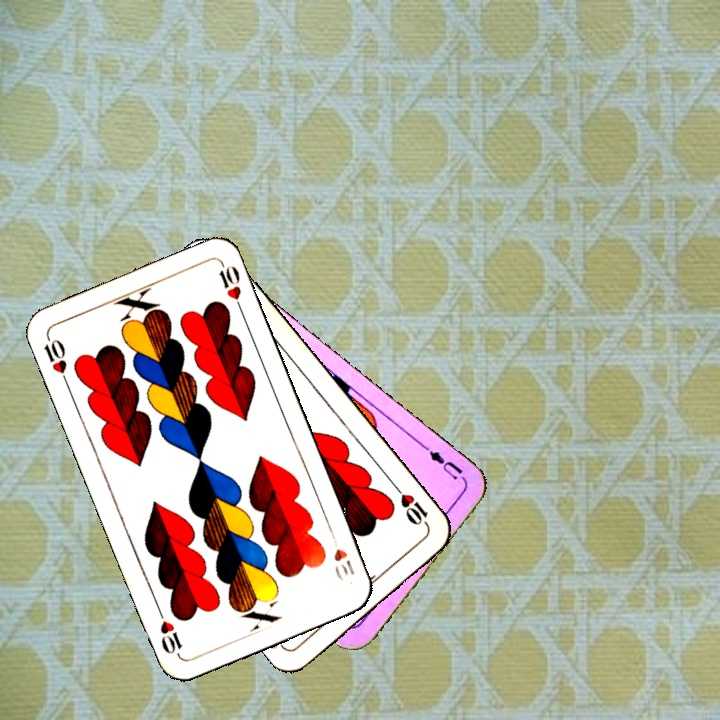EU: (419, 441, 469, 485)
H10: (390, 481, 433, 532), (39, 332, 72, 388), (327, 529, 357, 584)
